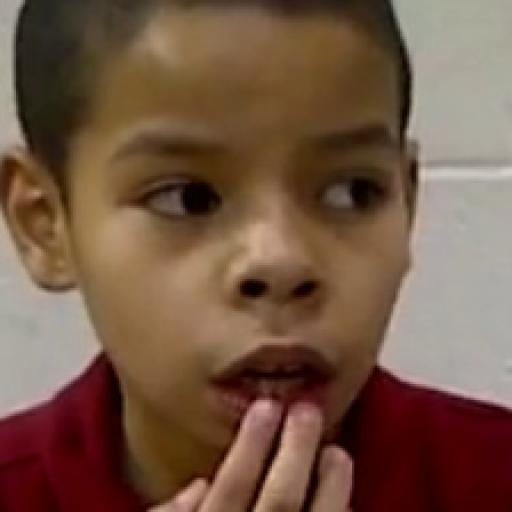Autism: (0, 5, 512, 512)
